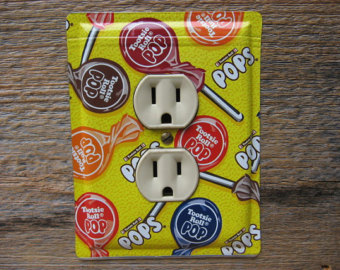outlet: (149, 84, 183, 126), (150, 158, 183, 199)
